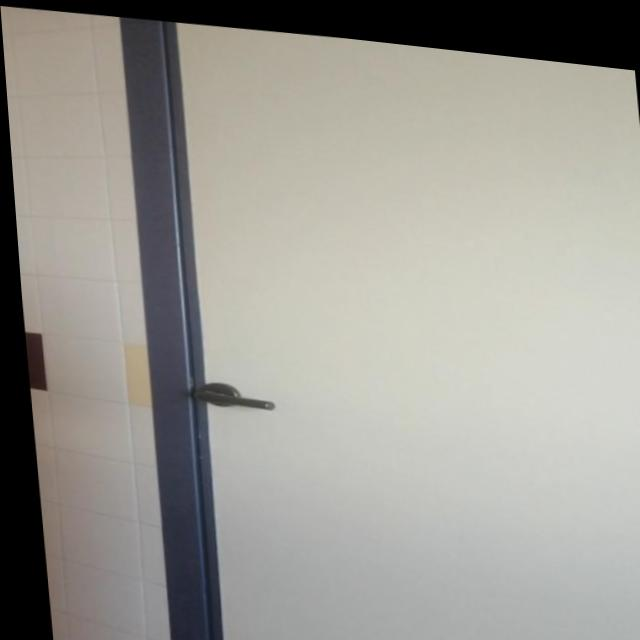door_handle: (182, 382, 272, 408)
